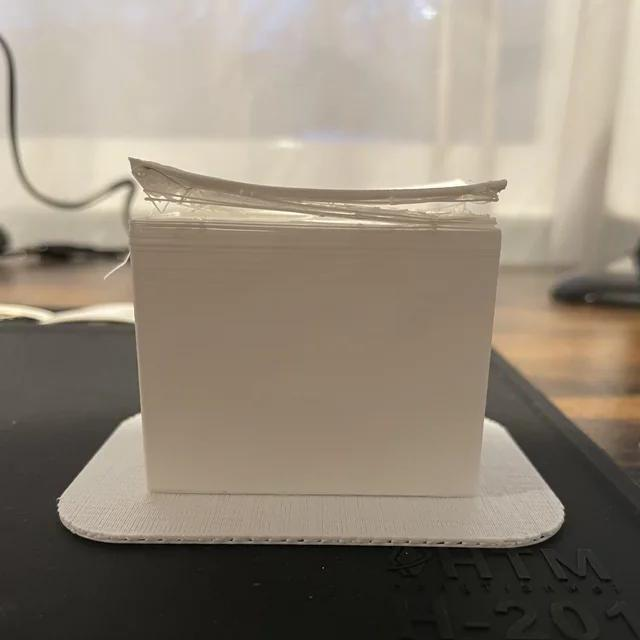warping: (122, 156, 244, 222), (416, 175, 508, 210)
